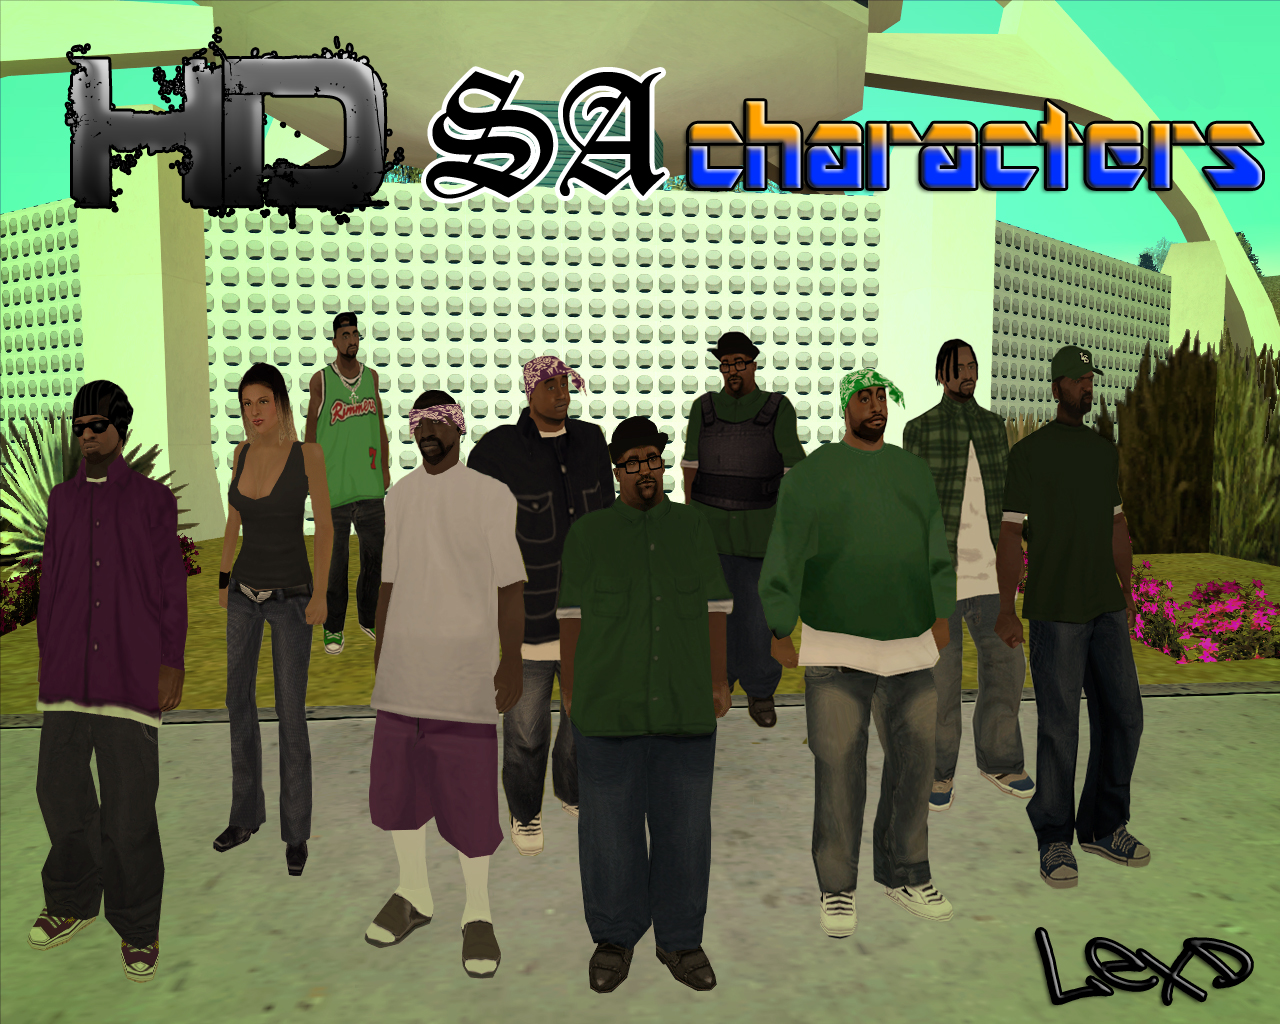person: (790, 372, 973, 930), (32, 385, 197, 986), (365, 388, 531, 984), (571, 426, 726, 997), (1008, 337, 1153, 879), (485, 361, 615, 876), (898, 342, 1041, 809), (205, 363, 327, 875), (681, 342, 803, 758), (300, 318, 403, 670)
